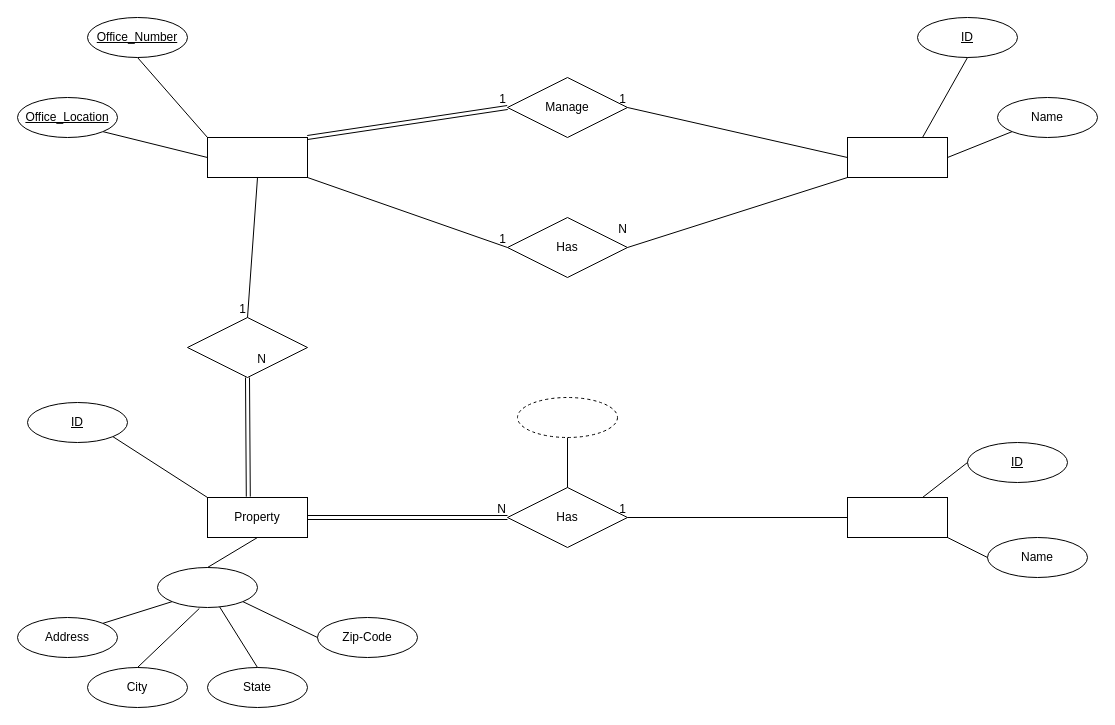
Some shapes in this 1115 by 725 pixel diagram are drawn without their labels. The shapes that lost their labels are listed below. From the top down, each one's box as (x1, y1, x2, y2) in pixels, then its label:
(206, 136, 308, 178): Office
(846, 136, 948, 178): Employee
(186, 316, 308, 378): Sale
(516, 396, 618, 438): Percentage
(846, 496, 948, 538): Property_Owner
(156, 566, 258, 608): Location
